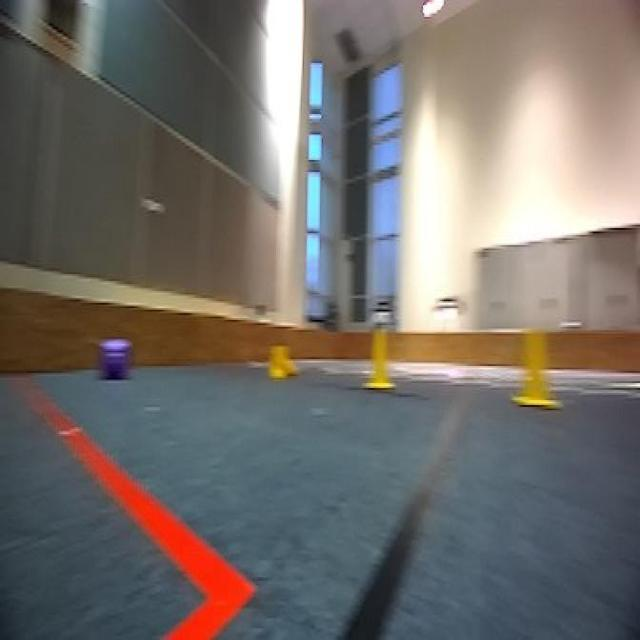frc_cone: (506, 322, 564, 410), (360, 324, 399, 386), (266, 344, 301, 381)
frc_cube: (101, 334, 129, 379)
